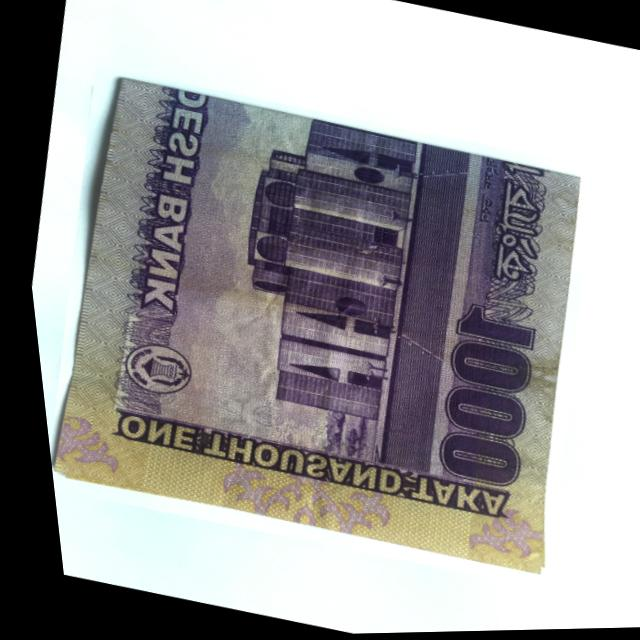Taka: (6, 57, 628, 600)
